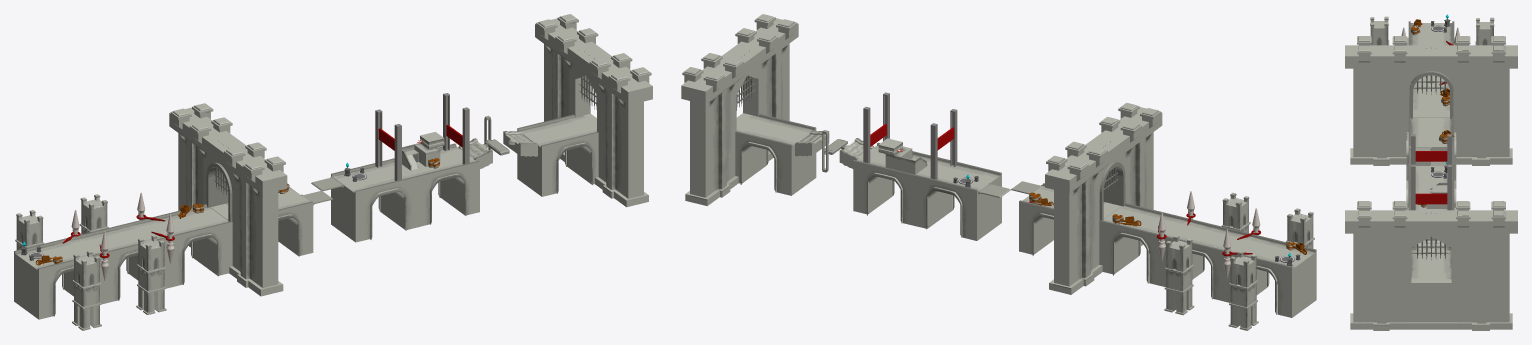
Rendered from STAGE2.1-2FIX.fbx.
3 renders of one model, left to right at view 1: azimuth 30°, elevation 25°; view 2: azimuth 150°, elevation 25°; view 3: azimuth 270°, elevation 25°, orthographic. The views are drawn at different scales.
Parts seen in each view (by area): view 1: ลูกบาศก์.007, ลูกบาศก์.003, Cube.005, Cube.008, Cube, Cube.002, Cube.007, Cube.001, Cube.003, ลูกบาศก์.004, ลูกบาศก์.002, Cube.009 (+7 smaller); view 2: ลูกบาศก์.007, ลูกบาศก์.003, Cube.005, Cube.008, Cube, Cube.002, Cube.007, Cube.001, ลูกบาศก์.006, ลูกบาศก์.005, Cube.003, Cube.009 (+7 smaller); view 3: ลูกบาศก์.007, ลูกบาศก์.003, Cube.003, Cube.008, Cube.005, Cube, Cube.002, ลูกบาศก์.002, ลูกบาศก์.010, Cube.023, ลูกบาศก์.005, Cube.024 (+7 smaller).
Boxes of the visible parts, left/top/right/bottom form: ลูกบาศก์.007: left=535, top=14, right=652, bottom=207; ลูกบาศก์.003: left=169, top=103, right=287, bottom=296; Cube.005: left=331, top=158, right=420, bottom=242; Cube.008: left=517, top=114, right=598, bottom=196; Cube: left=14, top=236, right=103, bottom=319; Cube.002: left=143, top=204, right=232, bottom=287; Cube.007: left=392, top=143, right=479, bottom=226; Cube.001: left=79, top=219, right=167, bottom=303; Cube.003: left=226, top=184, right=313, bottom=256; ลูกบาศก์.004: left=136, top=235, right=166, bottom=314; ลูกบาศก์.002: left=72, top=250, right=101, bottom=330; Cube.009: left=402, top=132, right=444, bottom=170; ลูกบาศก์.007: left=681, top=14, right=798, bottom=206; ลูกบาศก์.003: left=1045, top=103, right=1162, bottom=294; Cube.005: left=914, top=157, right=1001, bottom=240; Cube.008: left=735, top=114, right=816, bottom=195; Cube: left=1228, top=234, right=1316, bottom=317; Cube.002: left=1099, top=203, right=1187, bottom=286; Cube.007: left=853, top=142, right=941, bottom=226; Cube.001: left=1163, top=218, right=1251, bottom=302; ลูกบาศก์.006: left=1164, top=235, right=1194, bottom=315; ลูกบาศก์.005: left=1228, top=251, right=1258, bottom=330; Cube.003: left=1019, top=183, right=1105, bottom=255; Cube.009: left=878, top=138, right=927, bottom=174; ลูกบาศก์.007: left=1345, top=201, right=1517, bottom=330; ลูกบาศก์.003: left=1345, top=36, right=1517, bottom=165; Cube.003: left=1406, top=116, right=1456, bottom=180; Cube.008: left=1411, top=250, right=1451, bottom=279; Cube.005: left=1406, top=164, right=1456, bottom=207; Cube: left=1407, top=21, right=1454, bottom=45; Cube.002: left=1413, top=82, right=1449, bottom=110; ลูกบาศก์.002: left=1370, top=16, right=1389, bottom=45; ลูกบาศก์.010: left=1409, top=71, right=1453, bottom=118; Cube.023: left=1411, top=164, right=1451, bottom=210; ลูกบาศก์.005: left=1475, top=17, right=1494, bottom=45; Cube.024: left=1415, top=193, right=1447, bottom=204.
Bounding box in the file's own units: 54397 × 11371 × 15039.
